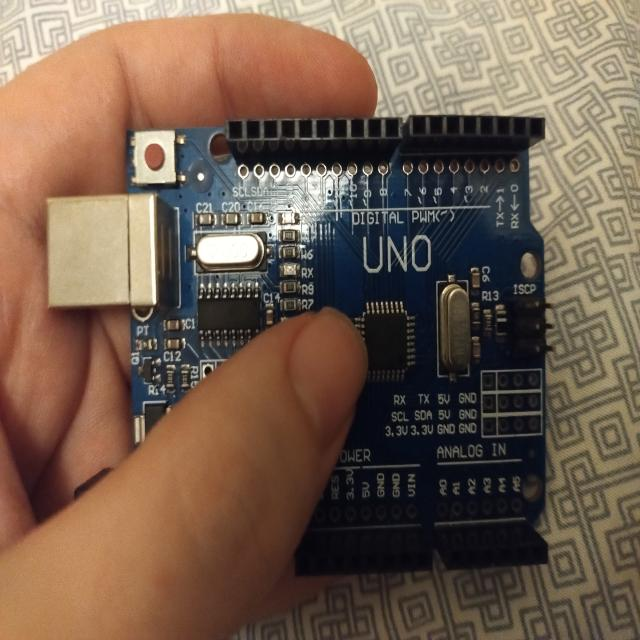arduino: (39, 118, 560, 583)
